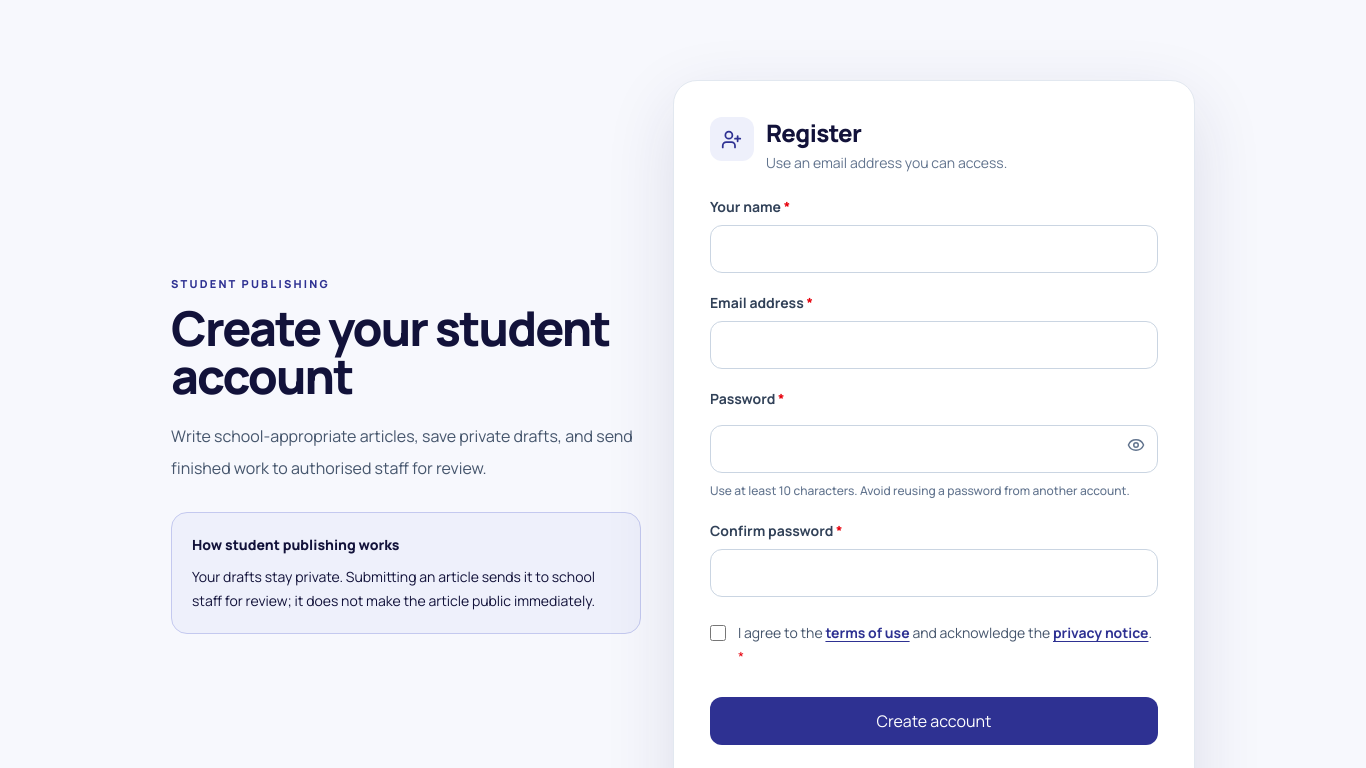
Scenario: student Better Auth forms › catches mismatched passwords before making an account request
Step 1. Type "Student Writer" into the field labelled "Your name *" → (934, 249), box 710,225 -> 1158,273
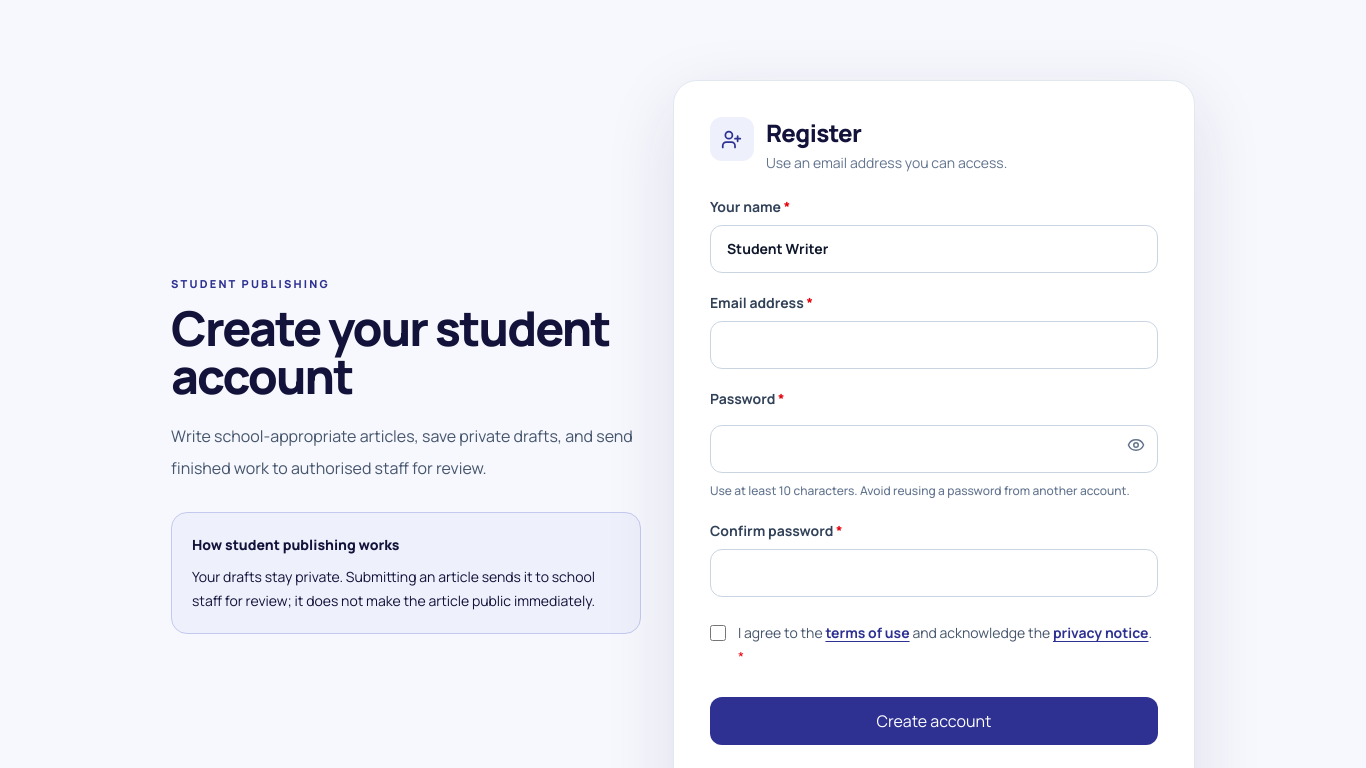
Step 2. Type "student@example.com" into the field labelled "Email address *" → (934, 345), box 710,321 -> 1158,369
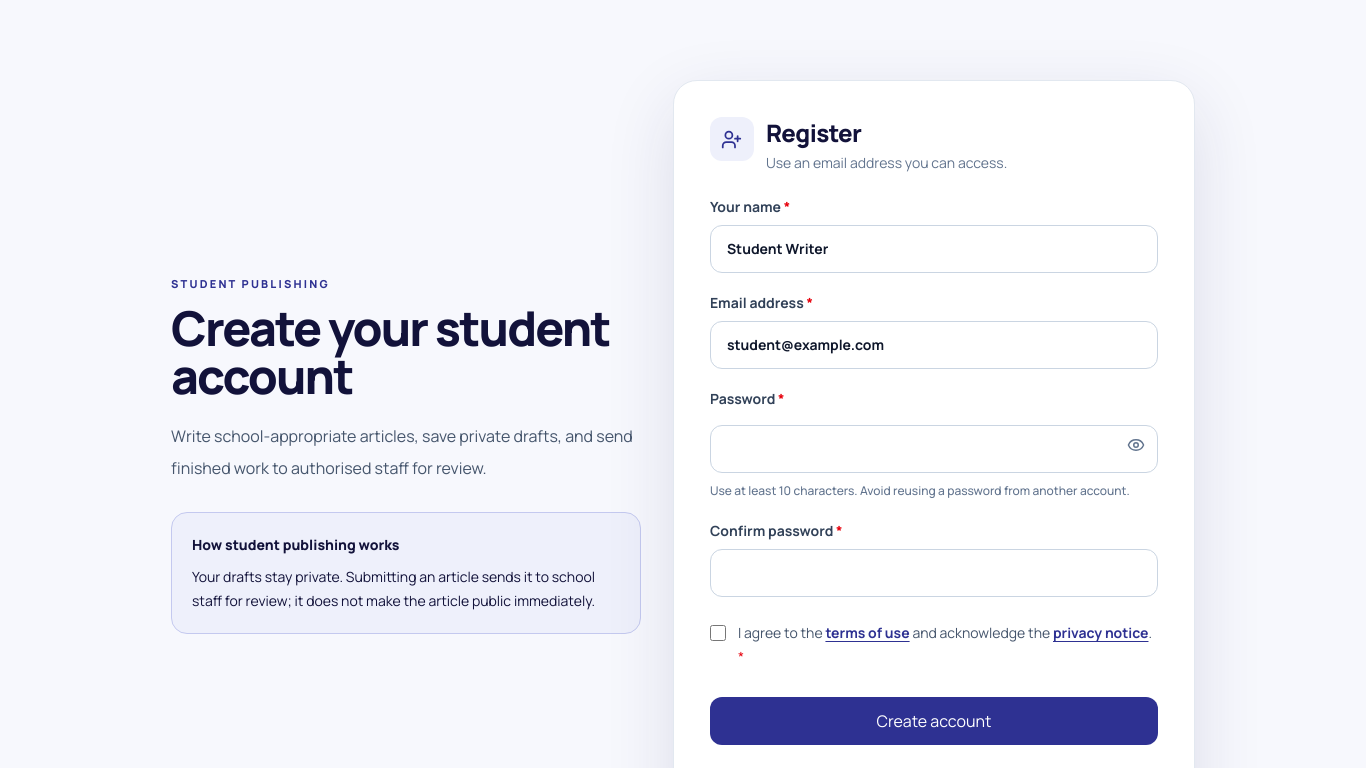
Step 3. Type "a-secure-student-password" into the password field labelled "Password" → (934, 449), box 710,425 -> 1158,473
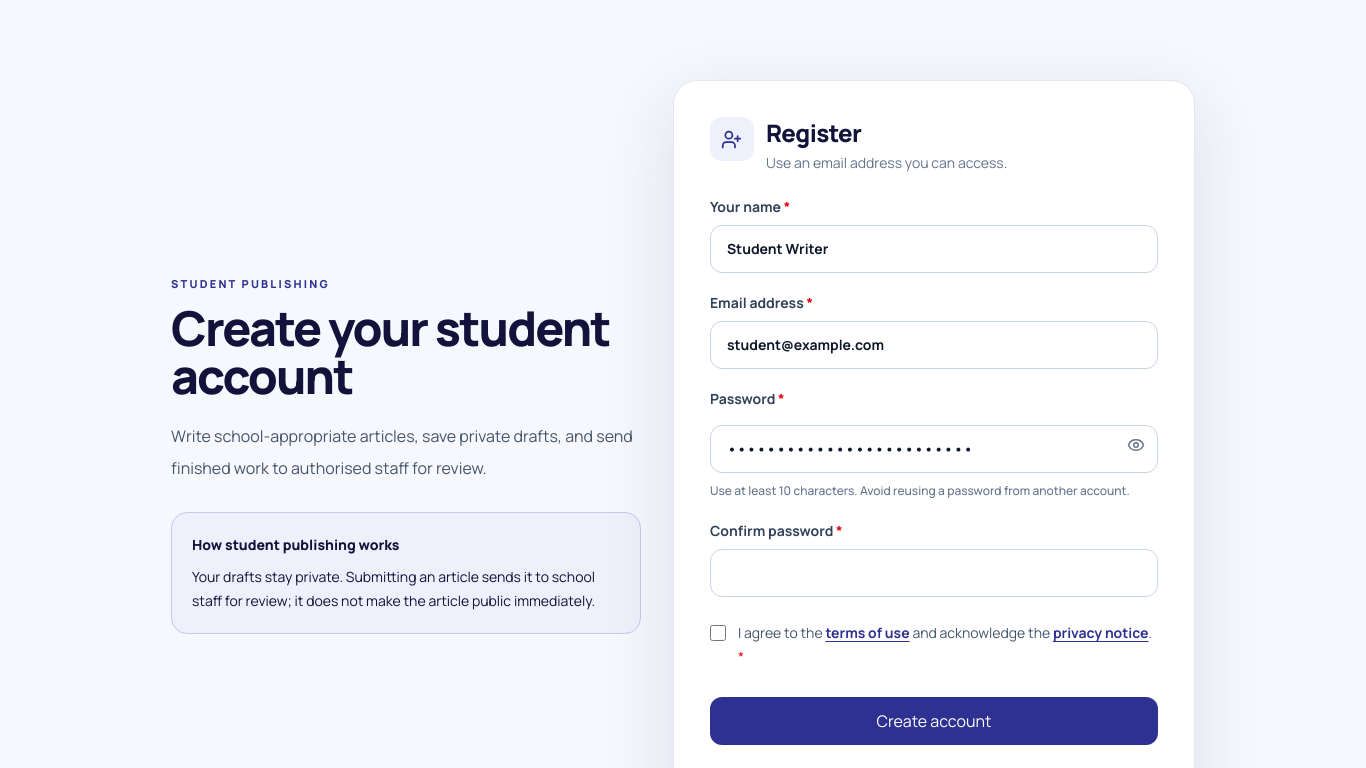
Step 4. Type "a-different-password" into the password field labelled "Confirm password *" → (934, 573), box 710,549 -> 1158,597
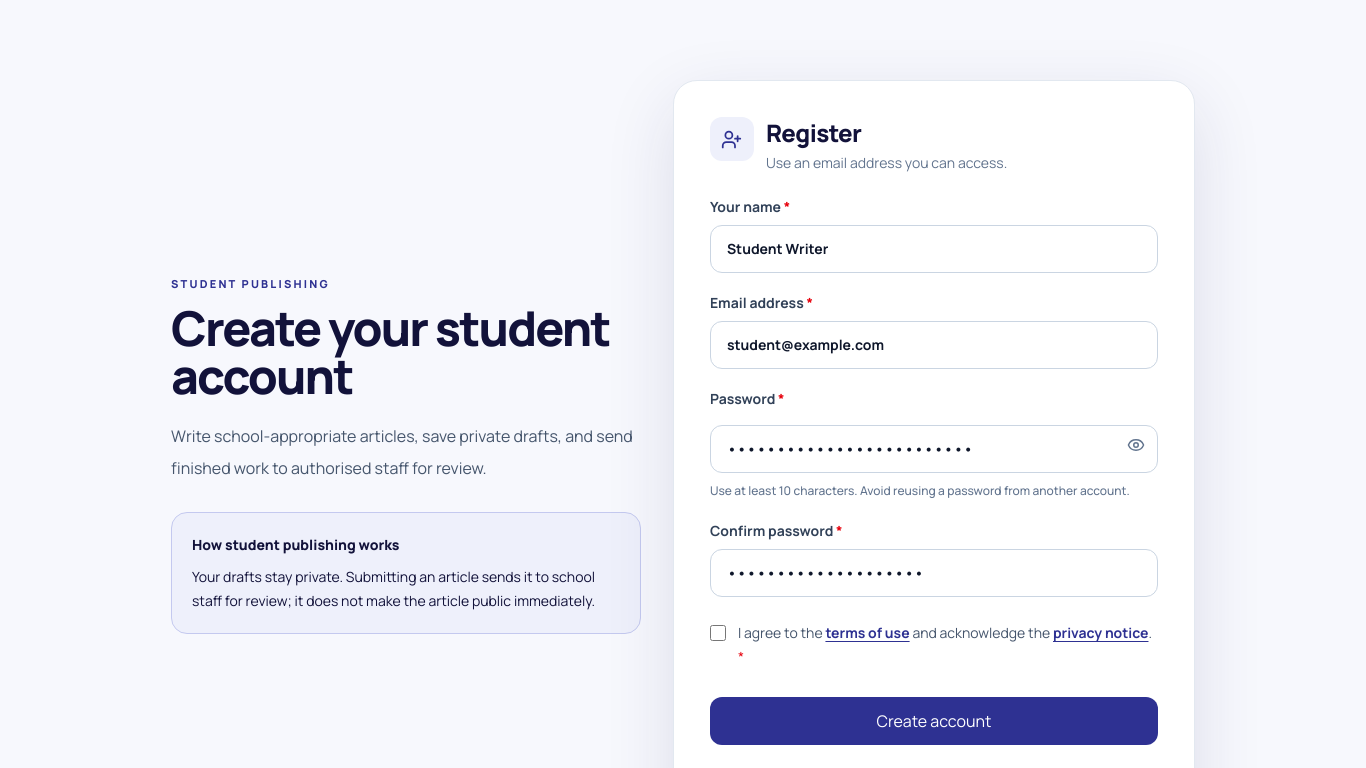
Step 5. Click the checkbox labelled "I agree to the terms of use" → (718, 633), box 710,625 -> 726,641
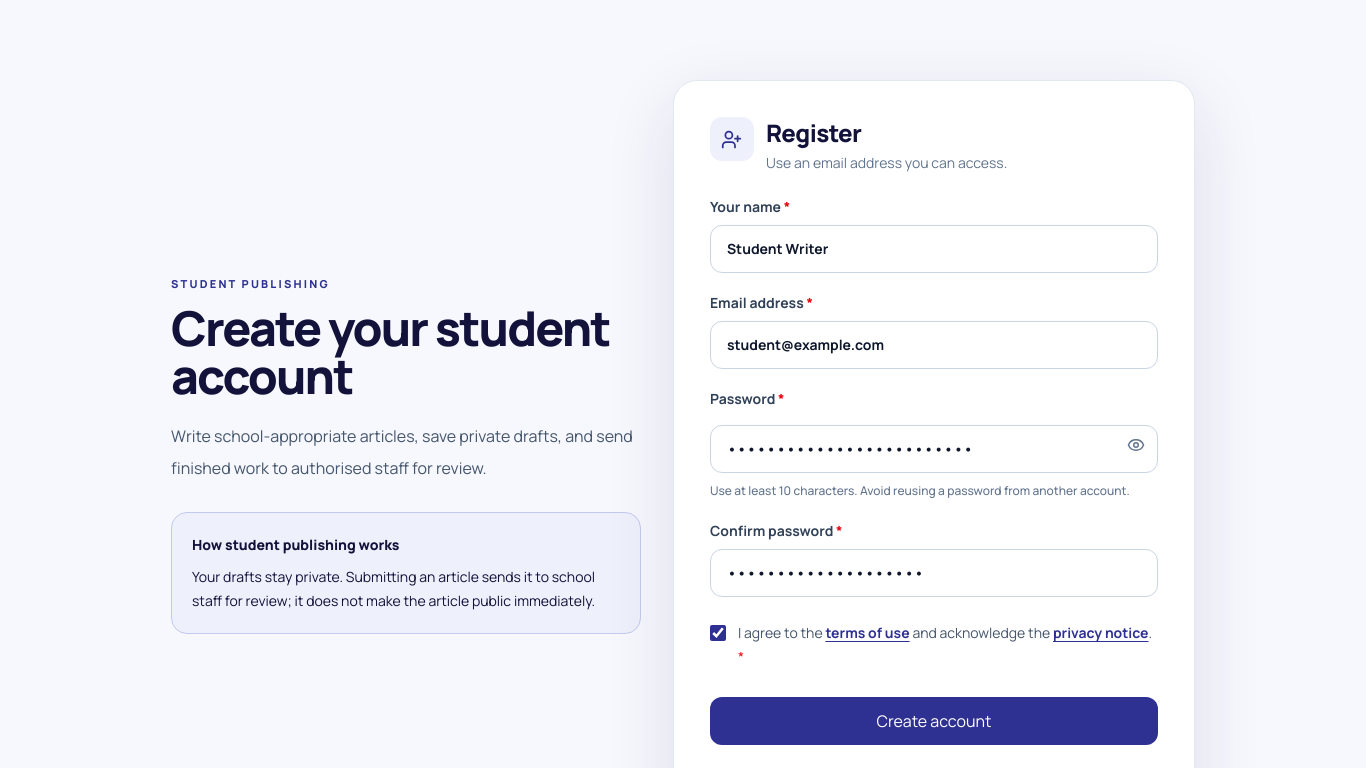
Step 6. Click the button "Create account" → (934, 721), box 710,697 -> 1158,745
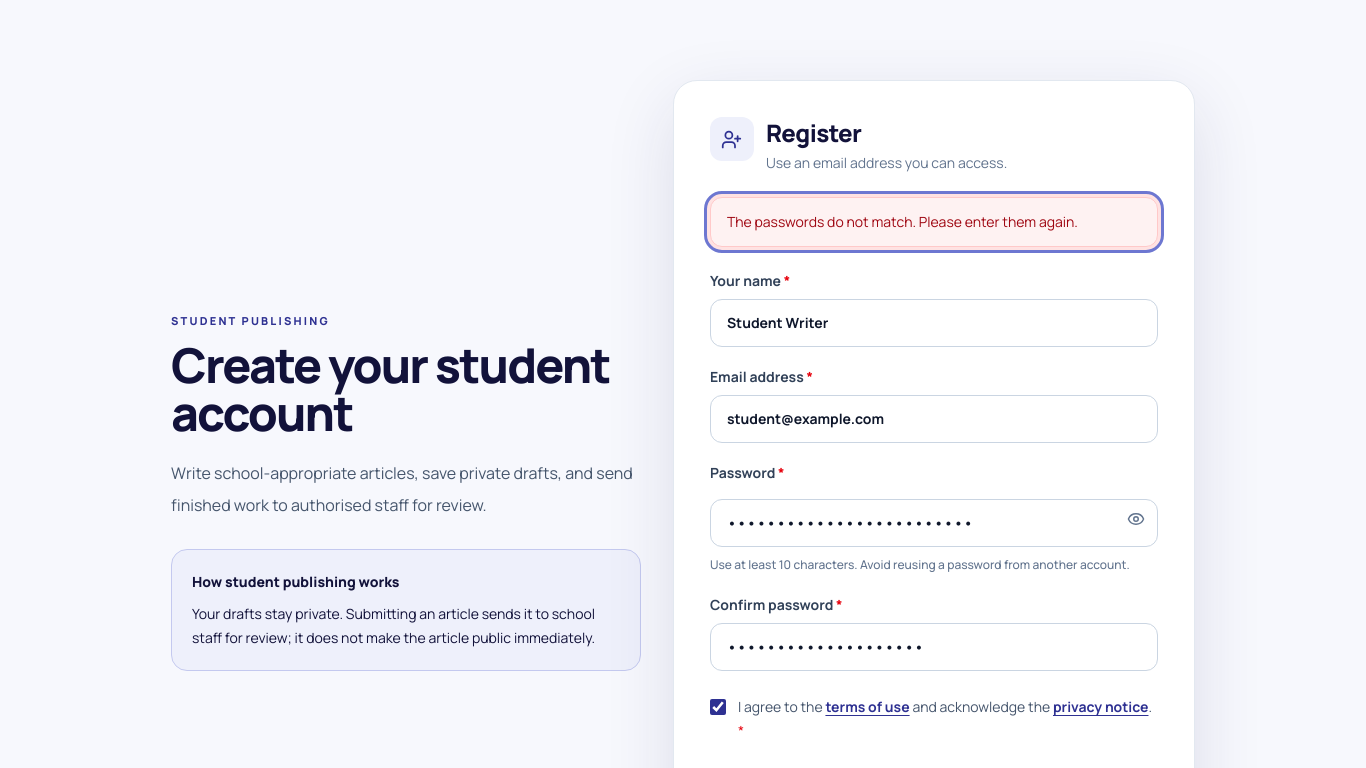
Expected: the message shows "The passwords do not match", 727,212 -> 1078,231
